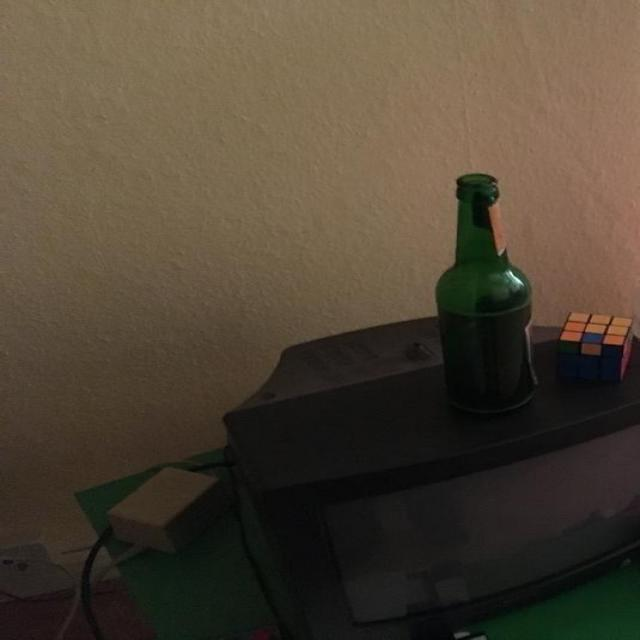bottle-glass: (433, 172, 541, 426)
